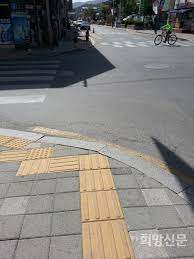guide_blocks: (78, 173, 133, 259), (16, 157, 110, 172), (1, 148, 52, 158), (1, 134, 28, 147)
